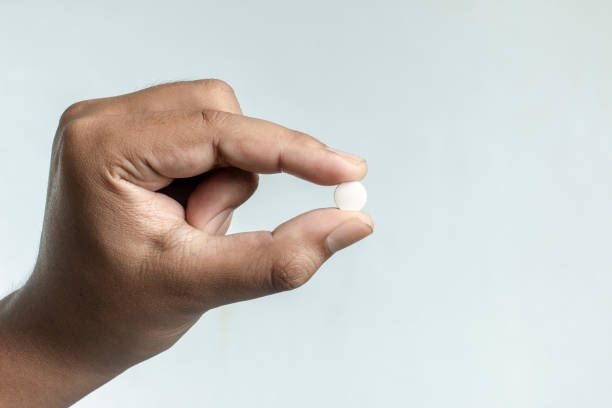pills: (331, 177, 371, 217)
